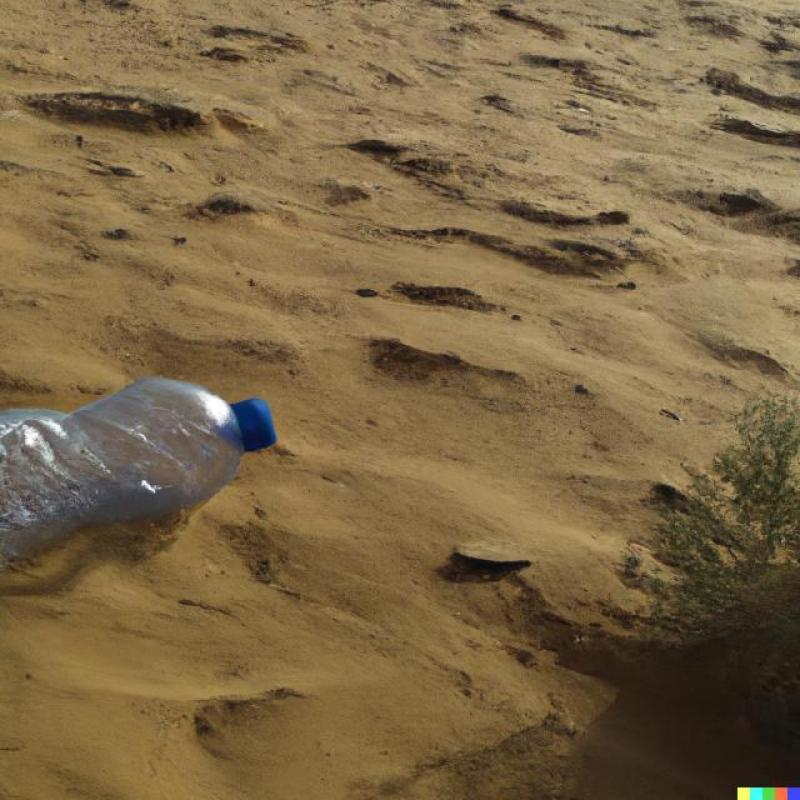botella: (0, 379, 276, 561)
